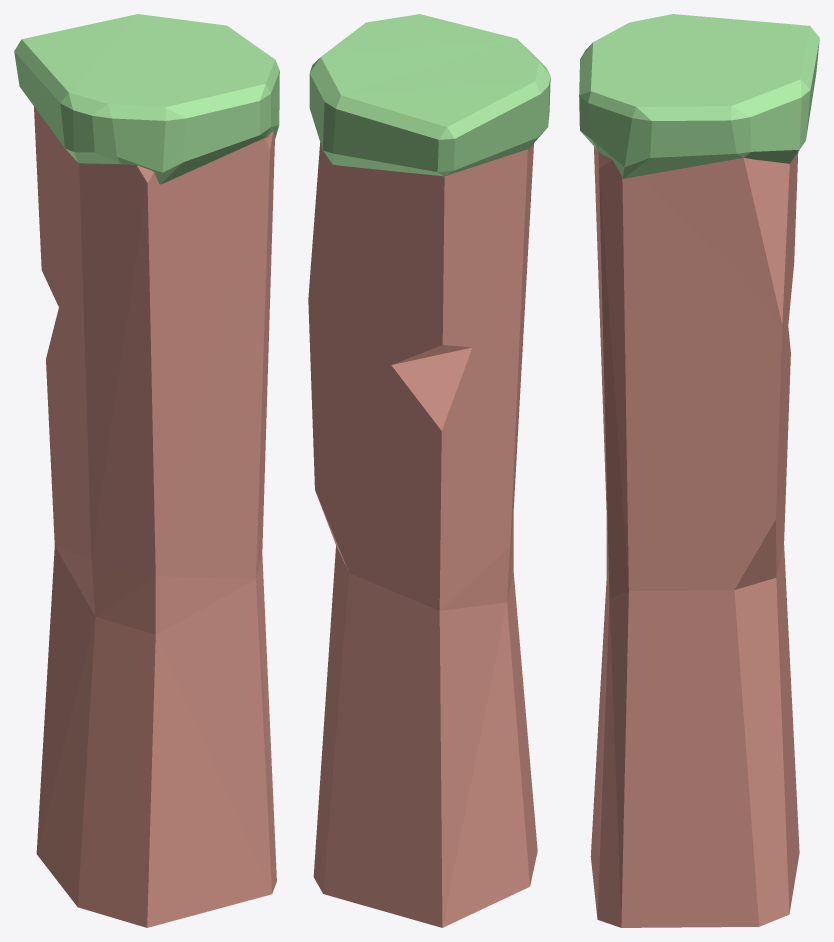
The model's file is Plane_003_Vlad.fbx.
3 views of the same model, side by side, from view 1: azimuth 30°, elevation 25°; view 2: azimuth 150°, elevation 25°; view 3: azimuth 270°, elevation 25° (orthographic).
Visible parts, largest first — view 1: Plane.003; view 2: Plane.003; view 3: Plane.003.
Boxes of the visible parts, x1,y1,x2,y2 form: Plane.003: (14,14,279,927); Plane.003: (308,14,550,927); Plane.003: (579,14,819,927).
Bounding box in the file's own units: 107 × 409 × 108.
